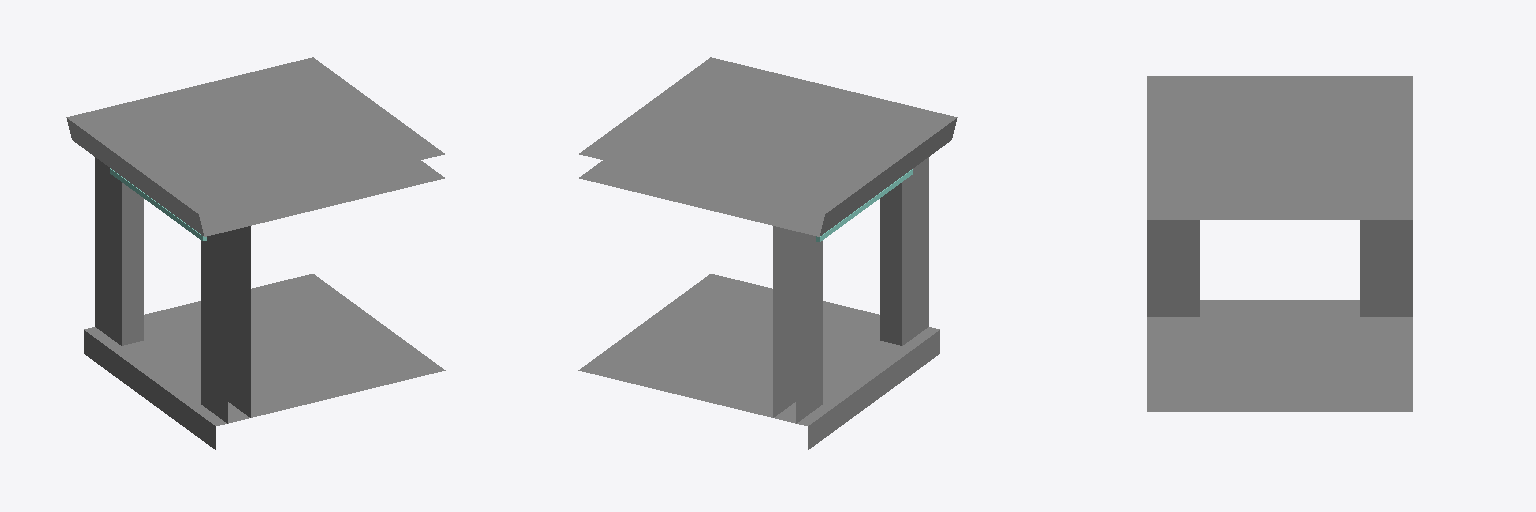
The picture shows the model from 3 angles: view 1: azimuth 30°, elevation 25°; view 2: azimuth 150°, elevation 25°; view 3: azimuth 270°, elevation 25°; orthographic projection.
Parts seen in each view (by area): view 1: objobjobjDuplicate422b, Box001; view 2: objobjobjDuplicate422b, Box001; view 3: objobjobjDuplicate422b.
Part boxes in pixels (x1,y1,x2,y2): objobjobjDuplicate422b: (66, 57, 445, 449); Box001: (110, 168, 206, 240); objobjobjDuplicate422b: (578, 57, 957, 449); Box001: (816, 169, 912, 241); objobjobjDuplicate422b: (1147, 76, 1412, 411).
Bounding box in the file's own units: 10.75 × 10 × 10.